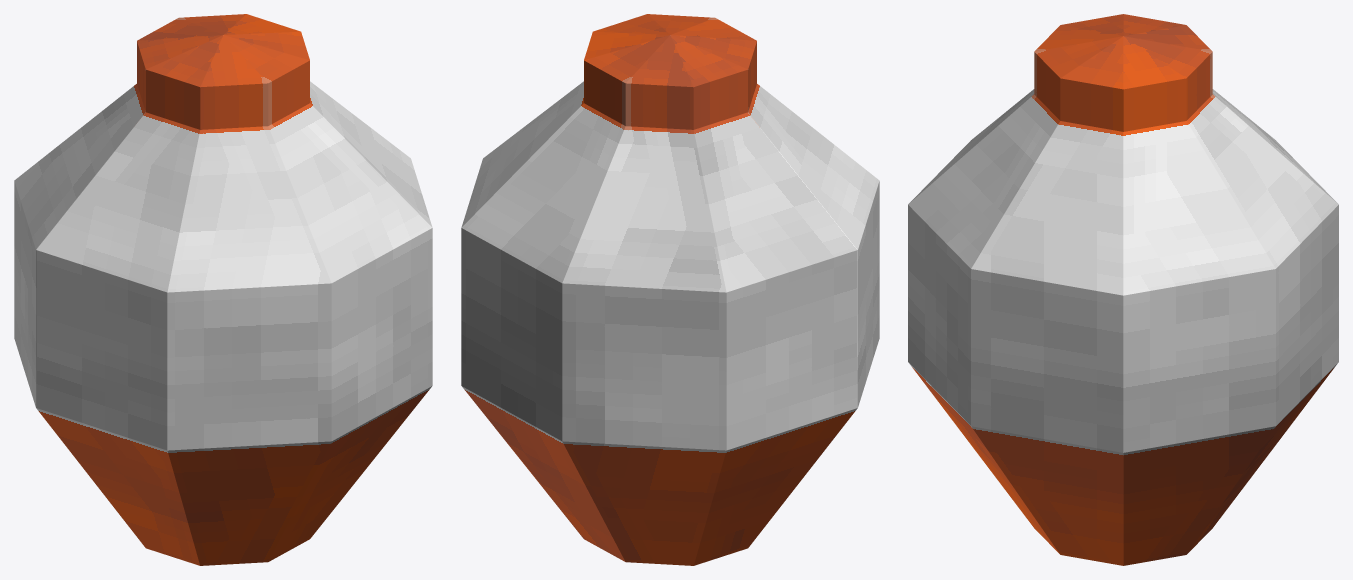
The model's file is Bobber.glb.
3 views of the same model, side by side, from view 1: azimuth 30°, elevation 25°; view 2: azimuth 150°, elevation 25°; view 3: azimuth 270°, elevation 25° (orthographic).
Visible parts, largest first — view 1: Sphere; view 2: Sphere; view 3: Sphere.
Part boxes in pixels (<box>): Sphere: <box>14,14,432,565</box>; Sphere: <box>461,14,879,565</box>; Sphere: <box>908,14,1338,565</box>.
Size of the model in its own units: 0.191 by 0.2576 by 0.191.
1 material, 1 textured.
